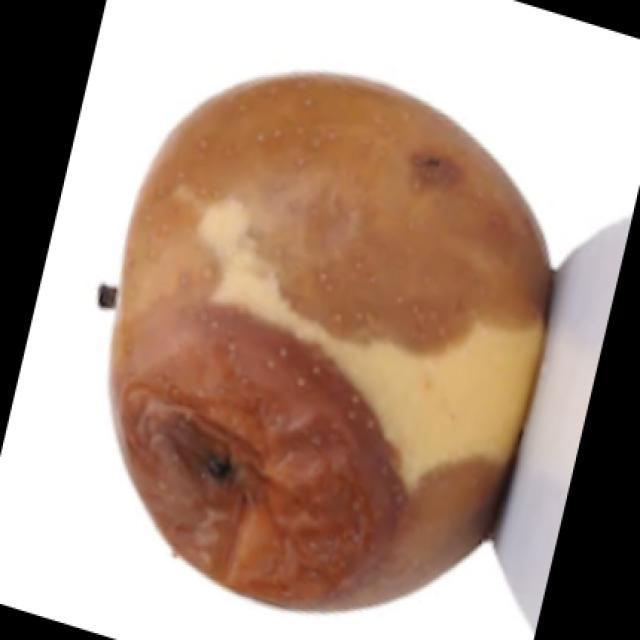Rotten: (125, 84, 510, 594)
